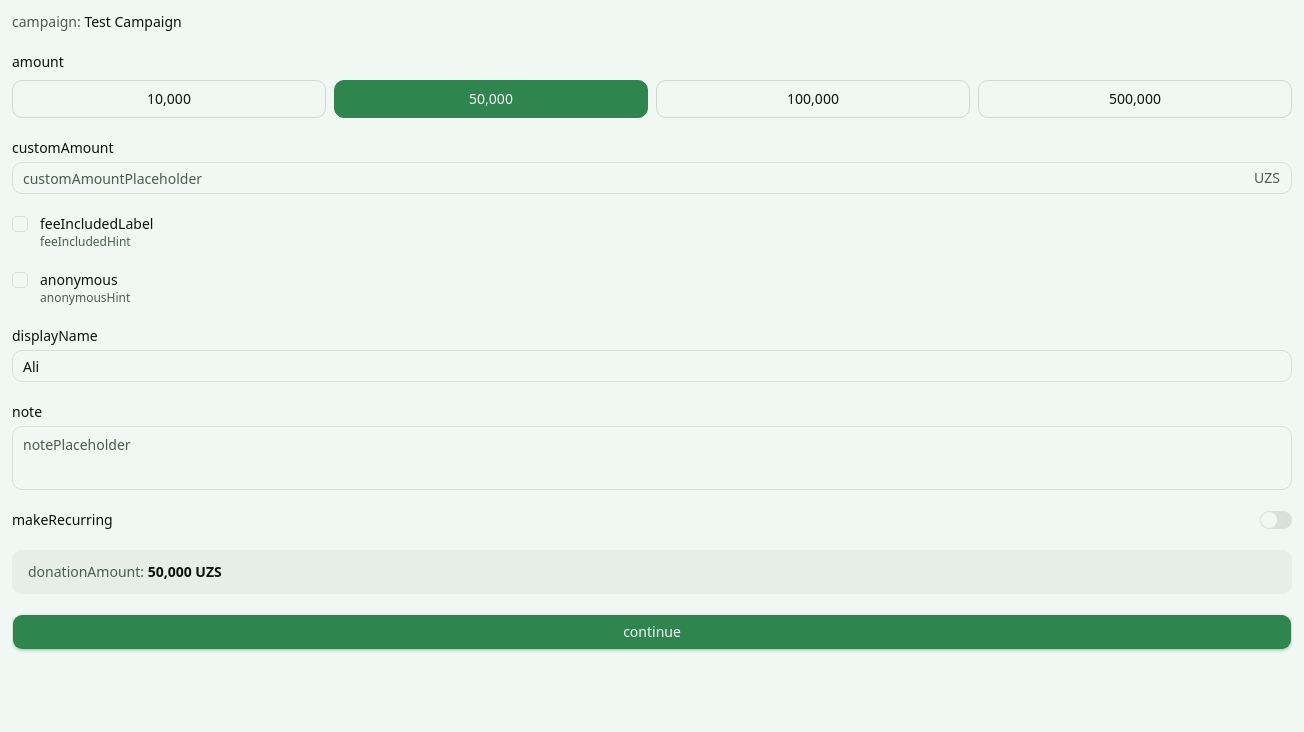
Test: DonationAmountStep › anonymous toggle hides display name field
Expected: the field labelled "displayName" is shown, [12, 350, 1292, 382]
Click the checkbox with id "anonymous" at (85, 280), box [40, 270, 130, 290]
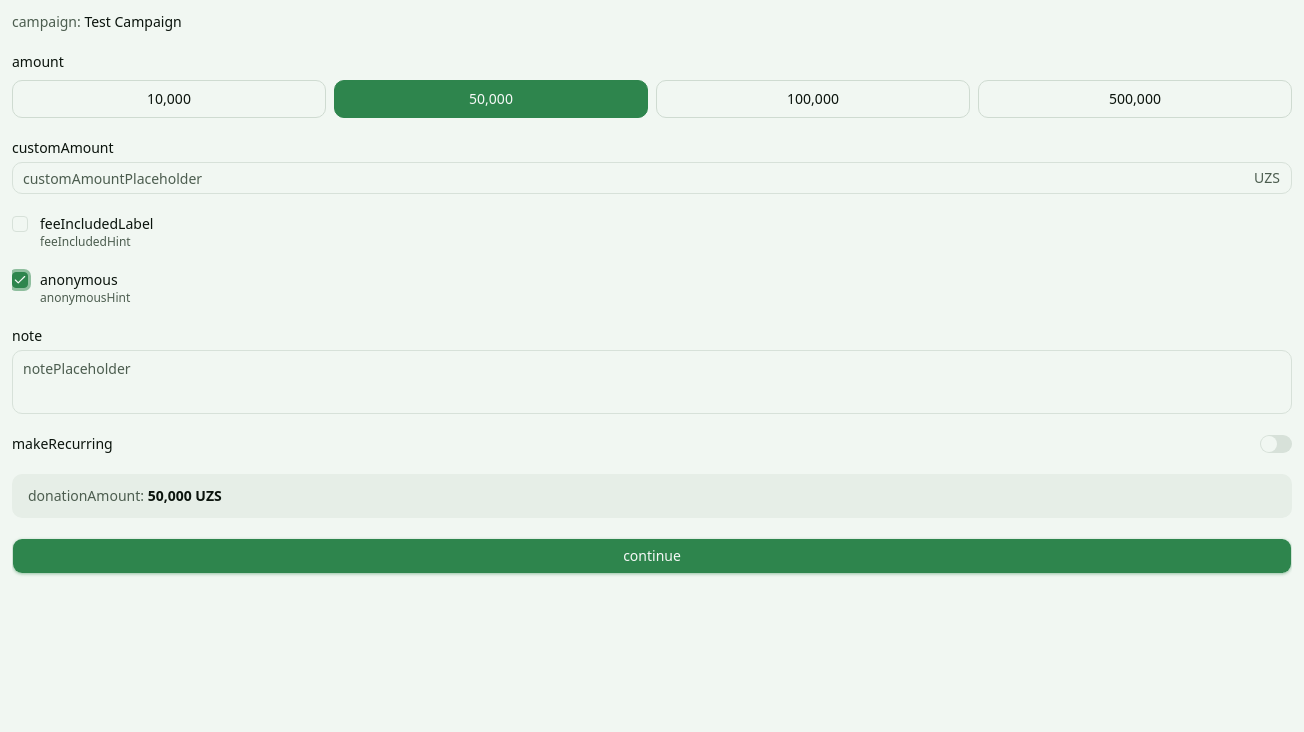
Expected: the label labelled "displayName" is gone
